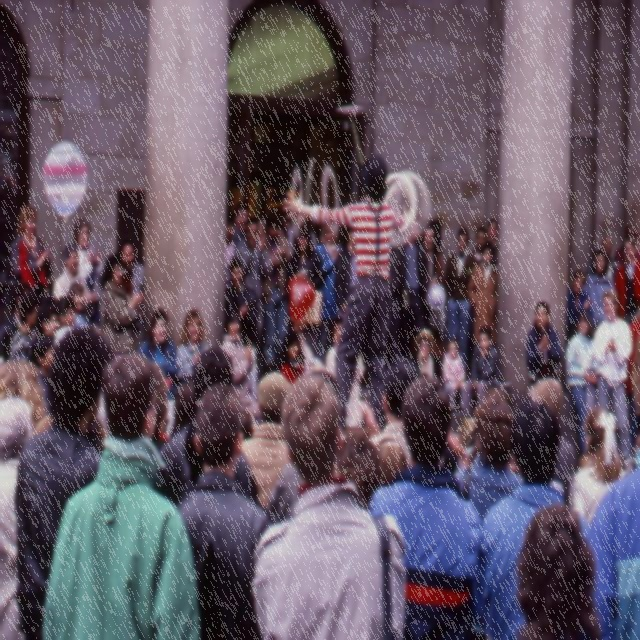pessoa: (41, 350, 203, 638), (251, 368, 411, 638), (281, 152, 410, 434), (368, 376, 481, 638), (172, 382, 283, 638), (16, 324, 105, 638), (477, 396, 589, 638), (155, 342, 262, 510), (587, 384, 639, 638), (509, 502, 606, 634), (267, 370, 341, 532), (451, 392, 525, 526), (0, 394, 36, 638), (590, 290, 635, 462), (569, 406, 629, 530), (527, 378, 577, 508), (368, 356, 421, 470), (443, 225, 479, 372), (564, 308, 599, 458), (323, 314, 367, 432), (457, 324, 502, 434), (139, 306, 177, 436), (220, 310, 262, 427), (235, 216, 273, 345), (311, 222, 345, 366), (261, 207, 291, 368), (340, 437, 408, 507), (466, 239, 500, 378), (98, 252, 143, 356), (10, 202, 56, 296), (151, 356, 196, 449), (396, 218, 426, 357), (381, 221, 408, 375), (70, 214, 105, 326), (223, 254, 260, 350), (525, 298, 564, 386), (580, 245, 617, 331), (116, 238, 145, 344), (256, 216, 273, 372), (285, 224, 325, 289), (174, 308, 211, 378), (51, 242, 93, 303), (334, 222, 359, 320), (613, 234, 639, 324), (10, 291, 42, 364), (8, 290, 39, 364), (566, 266, 594, 346), (28, 332, 55, 414), (0, 354, 46, 402), (440, 334, 467, 412), (626, 301, 639, 462), (416, 224, 440, 303), (286, 201, 318, 260), (464, 225, 489, 298), (411, 327, 442, 380), (90, 390, 112, 460), (279, 330, 306, 386), (33, 303, 62, 347), (67, 280, 93, 328), (447, 426, 472, 471), (225, 210, 239, 289), (613, 224, 639, 266), (231, 201, 250, 248), (600, 232, 616, 284), (52, 295, 77, 328), (486, 216, 500, 268), (504, 448, 522, 486)
